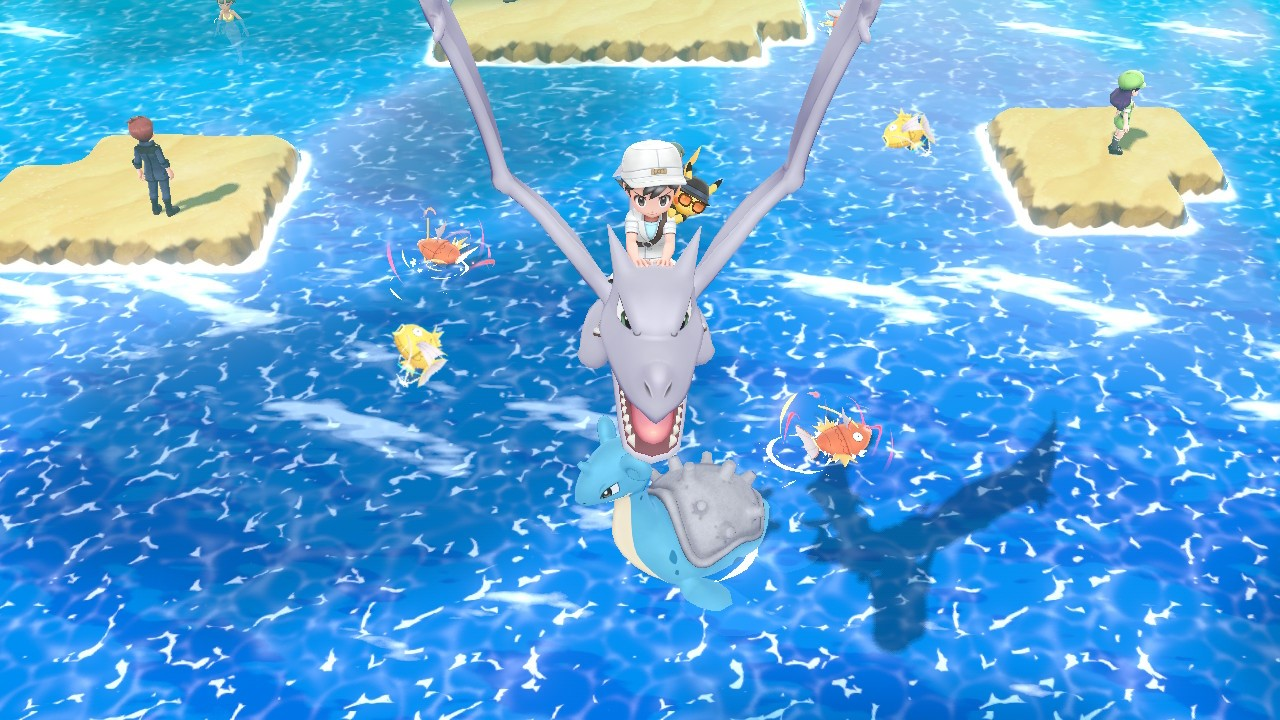Golden: (392, 318, 451, 387), (878, 103, 936, 157)
